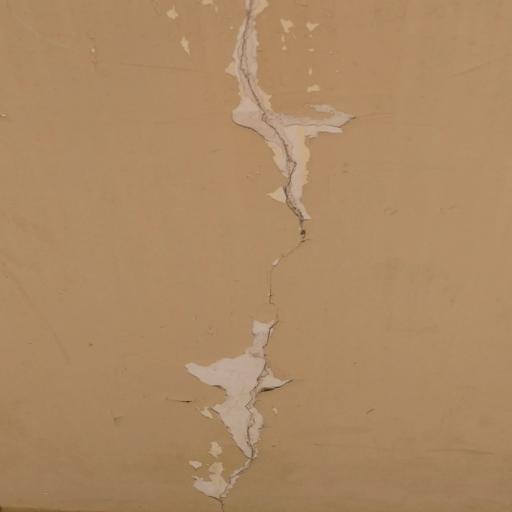peeling: (163, 0, 376, 276), (168, 313, 302, 512)
